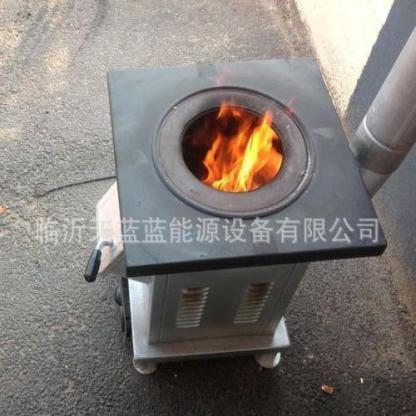fire: (196, 89, 286, 193)
